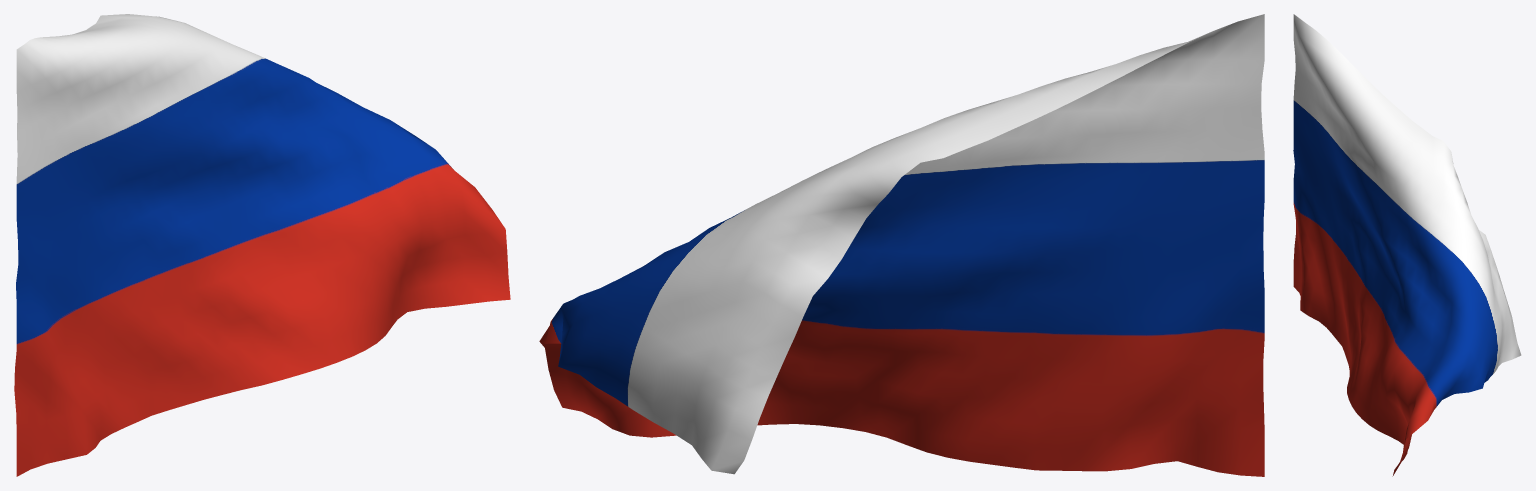
The model's file is Simple_Russian_Flag_animated.glb.
3 views of the same model, side by side, from view 1: azimuth 30°, elevation 25°; view 2: azimuth 150°, elevation 25°; view 3: azimuth 270°, elevation 25° (orthographic). The views are drawn at different scales.
Parts seen in each view (by area): view 1: Flag Main Textured Sized.1_0; view 2: Flag Main Textured Sized.1_0; view 3: Flag Main Textured Sized.1_0.
Part boxes in pixels (bbox=[...]): Flag Main Textured Sized.1_0: bbox=[14, 14, 510, 476]; Flag Main Textured Sized.1_0: bbox=[539, 14, 1264, 476]; Flag Main Textured Sized.1_0: bbox=[1293, 14, 1521, 476].
Size of the model in its own units: 283 by 209 by 151.
1 material, 1 textured.
